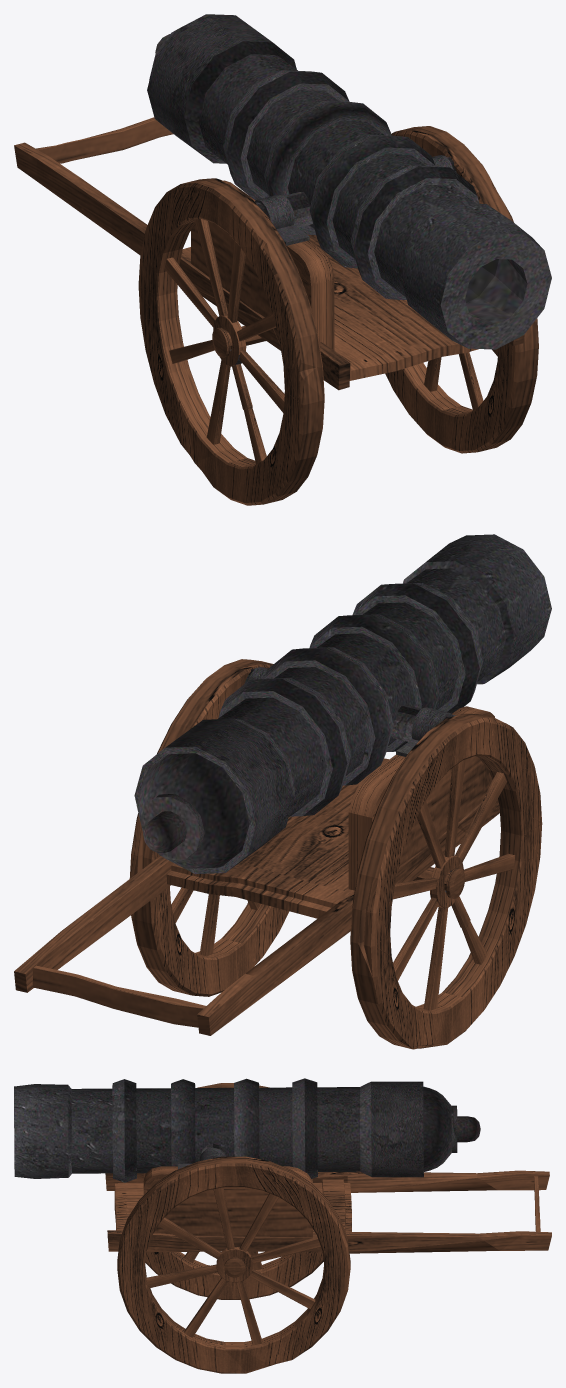
Rendered from sanjiangjunpao.FBX.
3 renders of one model, top to bottom at view 1: azimuth 30°, elevation 25°; view 2: azimuth 150°, elevation 25°; view 3: azimuth 270°, elevation 25°, orthographic. The views are drawn at different scales.
Parts seen in each view (by area): view 1: pao, lunzi1, lunzi2; view 2: pao, lunzi1, lunzi2; view 3: pao, lunzi2, lunzi1.
Boxes of the visible parts, box(x1,y1,x2,y2) form: pao: box(14, 14, 551, 390); lunzi1: box(138, 178, 324, 505); lunzi2: box(385, 126, 538, 453); pao: box(14, 534, 551, 1035); lunzi1: box(350, 713, 542, 1049); lunzi2: box(129, 659, 289, 996); pao: box(14, 1078, 551, 1277); lunzi2: box(117, 1156, 350, 1373); lunzi1: box(145, 1083, 323, 1299).
Size of the model in its own units: 87.96 by 125 by 243.
